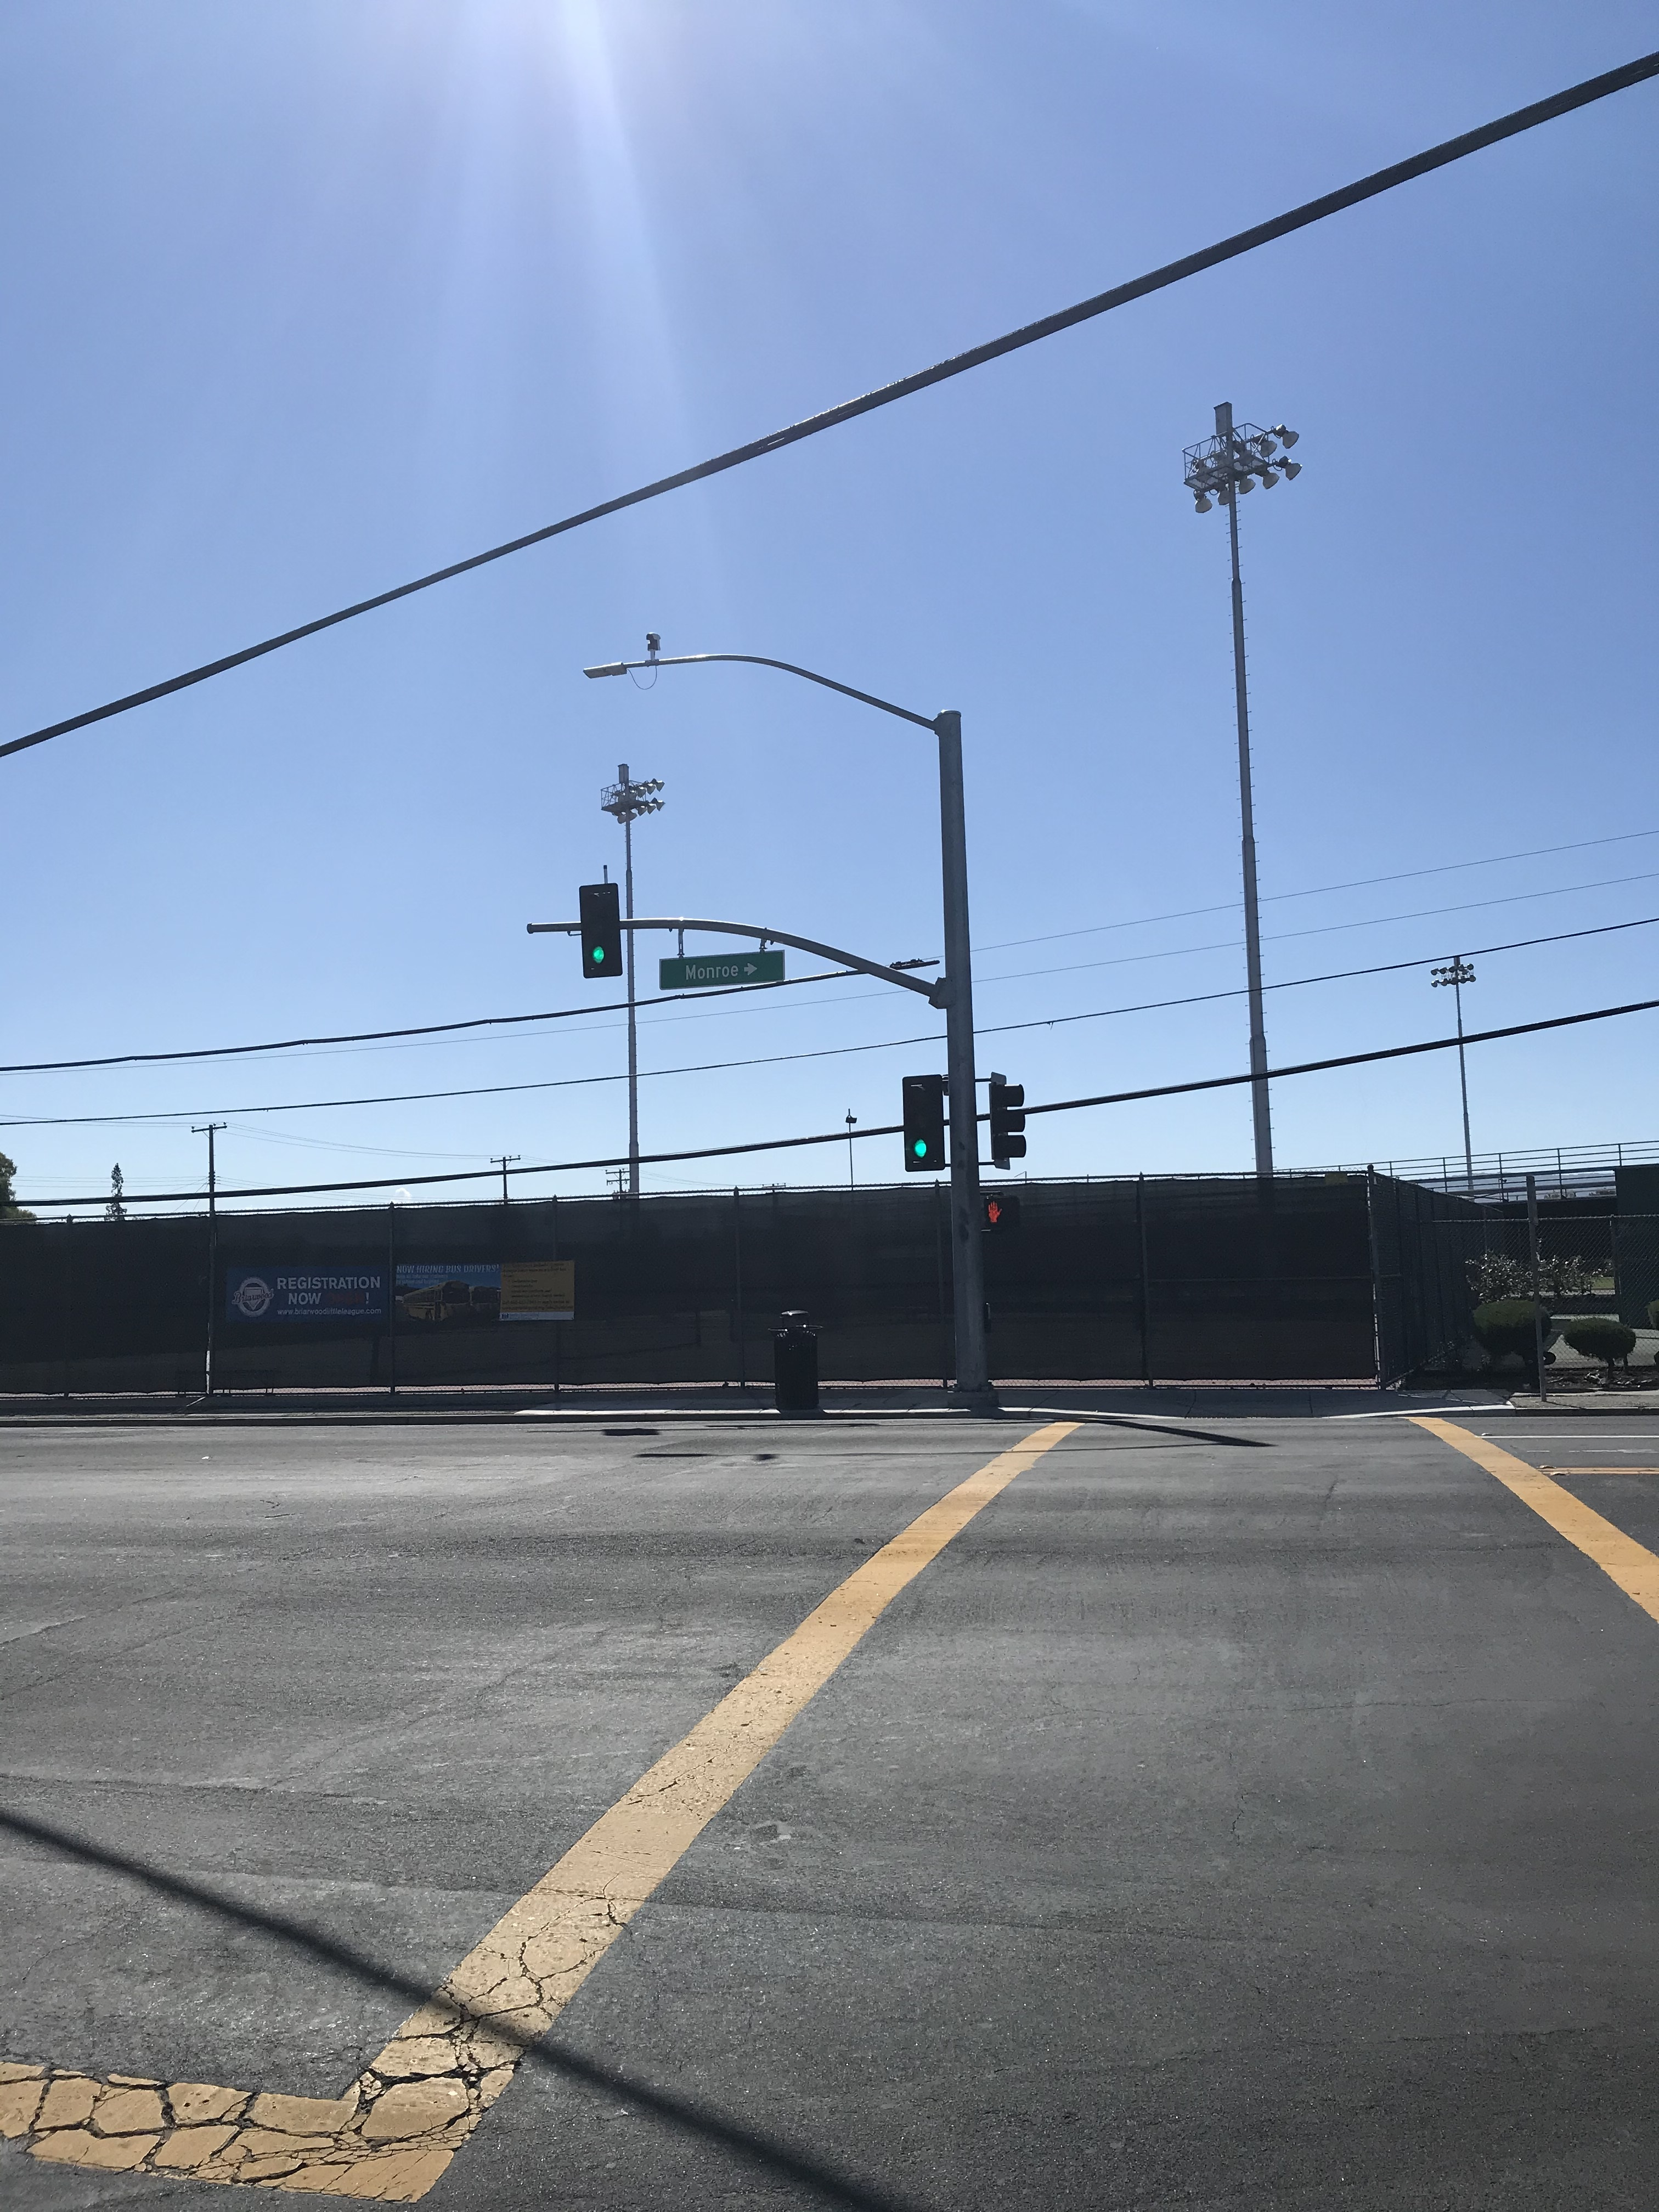green_light: (582, 885, 615, 972), (904, 1082, 936, 1165)
